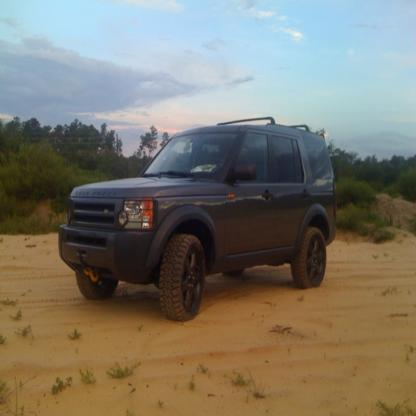Car: (59, 118, 338, 322)
